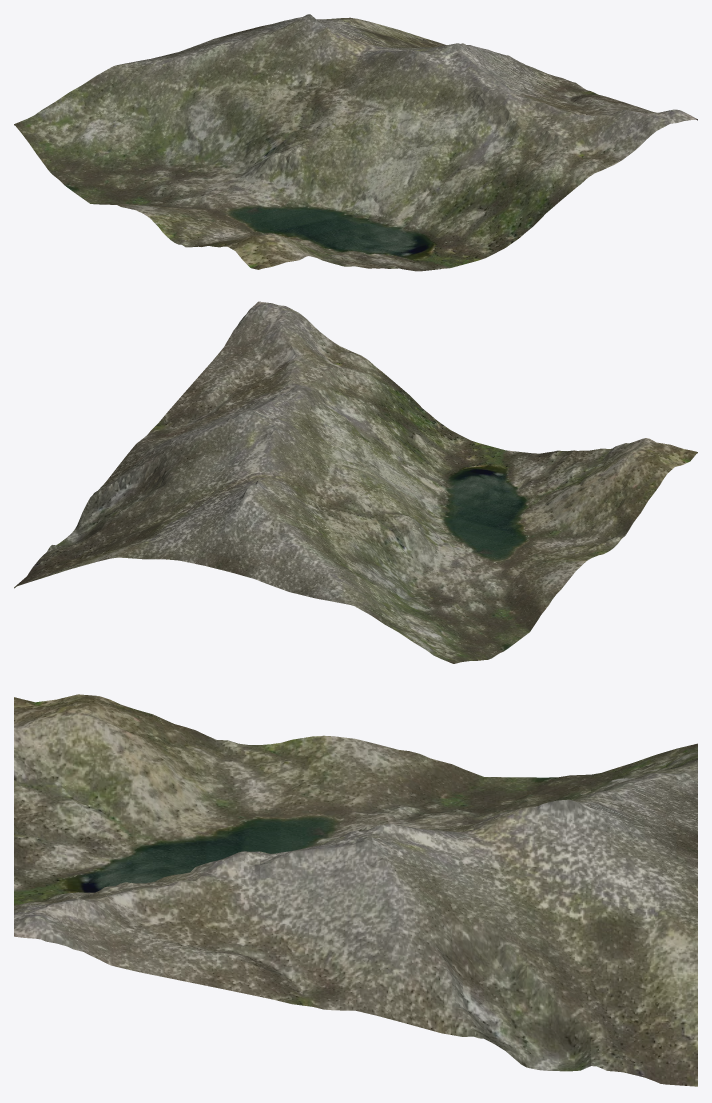
3 renders of one model, top to bottom at view 1: azimuth 30°, elevation 25°; view 2: azimuth 150°, elevation 25°; view 3: azimuth 270°, elevation 25°, orthographic. The views are drawn at different scales.
Size of the model in its own units: 2000 by 523 by 1925.
1 material, 1 textured.
